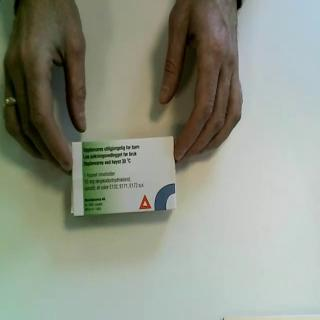oxynorm10mg: (71, 134, 179, 218)
